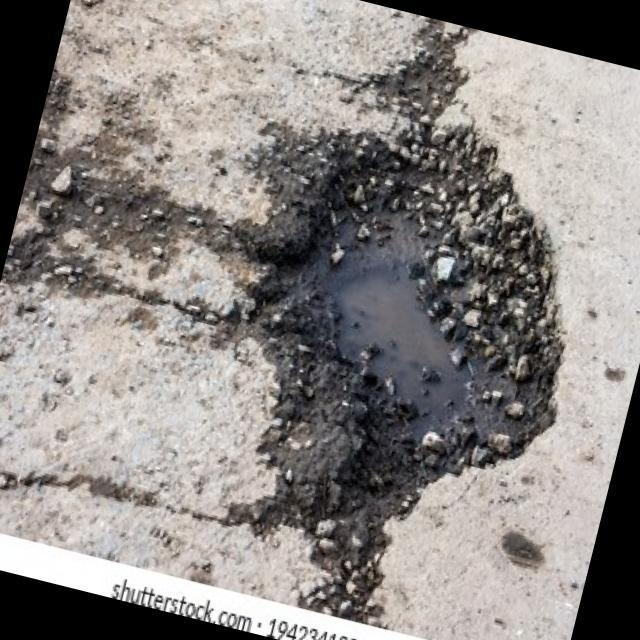Pothole: (238, 91, 624, 528)
